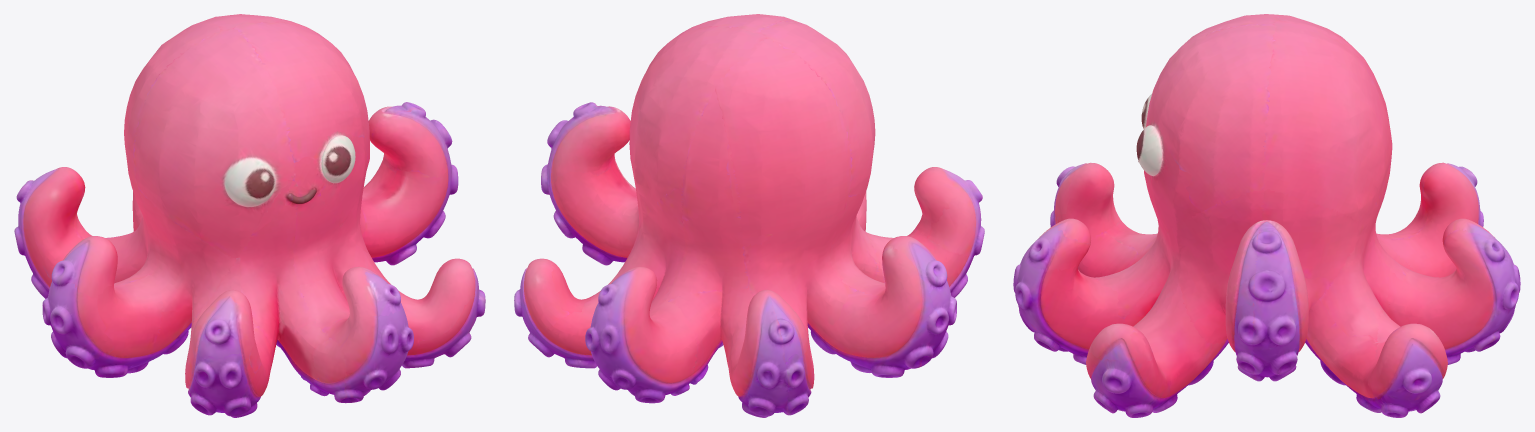
The model's file is Polpo.glb.
3 renders of one model, left to right at view 1: azimuth 30°, elevation 25°; view 2: azimuth 150°, elevation 25°; view 3: azimuth 270°, elevation 25°, orthographic. The views are drawn at different scales.
Size of the model in its own units: 1.81 by 1.36 by 1.9.
Materials: 1 (1 with a texture image).
